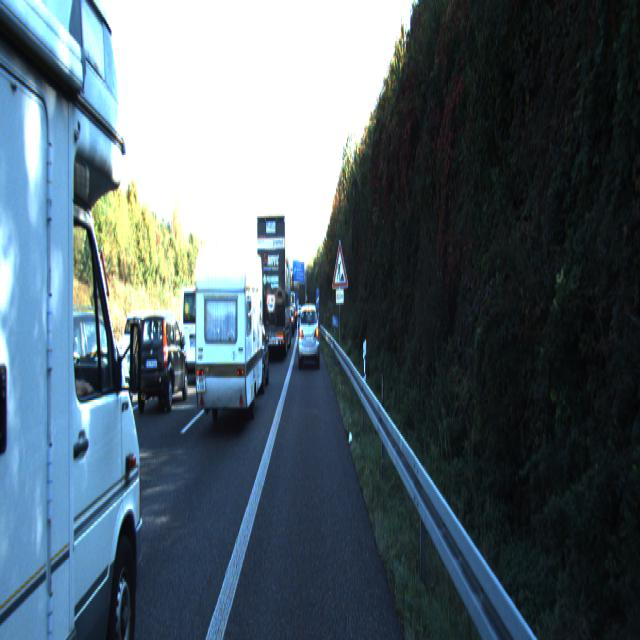Car: (0, 0, 161, 639), (194, 236, 264, 435), (135, 309, 189, 411), (257, 212, 292, 360), (179, 282, 227, 382), (121, 308, 166, 383), (235, 313, 270, 392), (298, 301, 320, 368)
